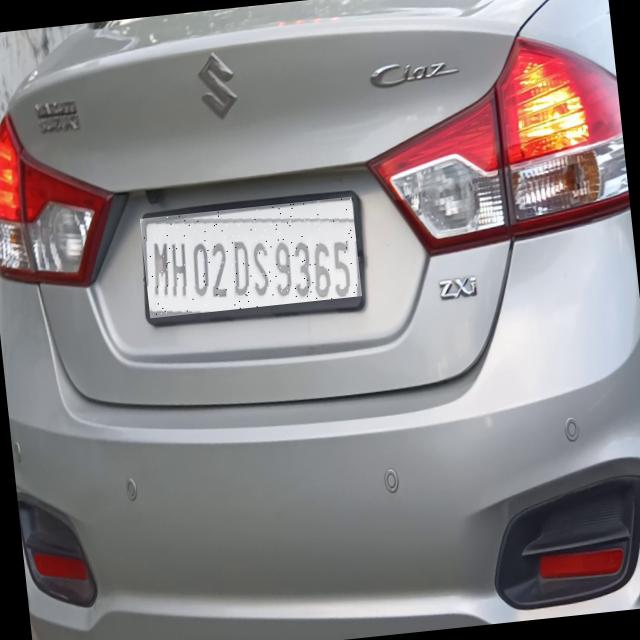Plate: (141, 197, 363, 319)
